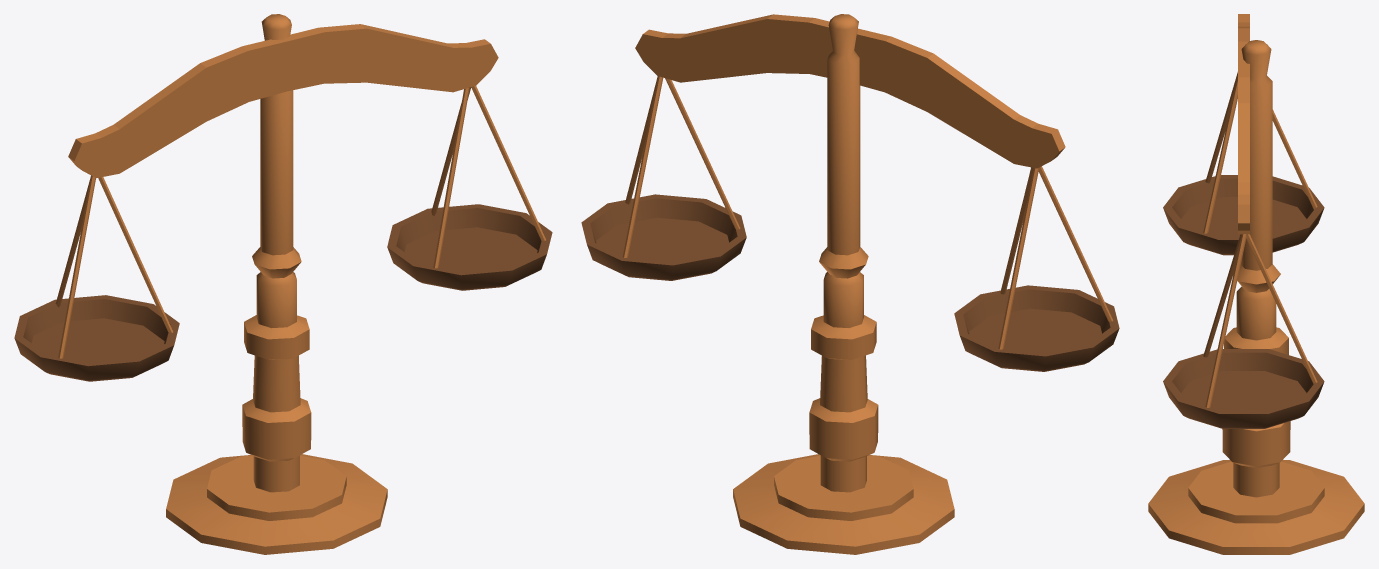
Rendered from Scale_01.fbx.
3 renders of one model, left to right at view 1: azimuth 30°, elevation 25°; view 2: azimuth 150°, elevation 25°; view 3: azimuth 270°, elevation 25°, orthographic. The views are drawn at different scales.
Visible parts, largest first — view 1: Scale_01, Scale_01_Top, Scale_01_Plate_01, Scale_01_Plate_02; view 2: Scale_01, Scale_01_Top, Scale_01_Plate_01, Scale_01_Plate_02; view 3: Scale_01, Scale_01_Plate_02, Scale_01_Plate_01, Scale_01_Top.
Boxes of the visible parts, x1,y1,x2,y2 form: Scale_01: [166, 14, 387, 554]; Scale_01_Top: [68, 24, 498, 177]; Scale_01_Plate_01: [14, 175, 179, 381]; Scale_01_Plate_02: [387, 86, 552, 290]; Scale_01: [733, 14, 954, 554]; Scale_01_Top: [635, 14, 1065, 168]; Scale_01_Plate_01: [954, 166, 1119, 371]; Scale_01_Plate_02: [581, 76, 746, 280]; Scale_01: [1148, 40, 1364, 554]; Scale_01_Plate_02: [1163, 234, 1324, 428]; Scale_01_Plate_01: [1163, 72, 1324, 255]; Scale_01_Top: [1238, 14, 1249, 234].
Bounding box in the file's own units: 0.6741 × 0.6153 × 0.2582.
